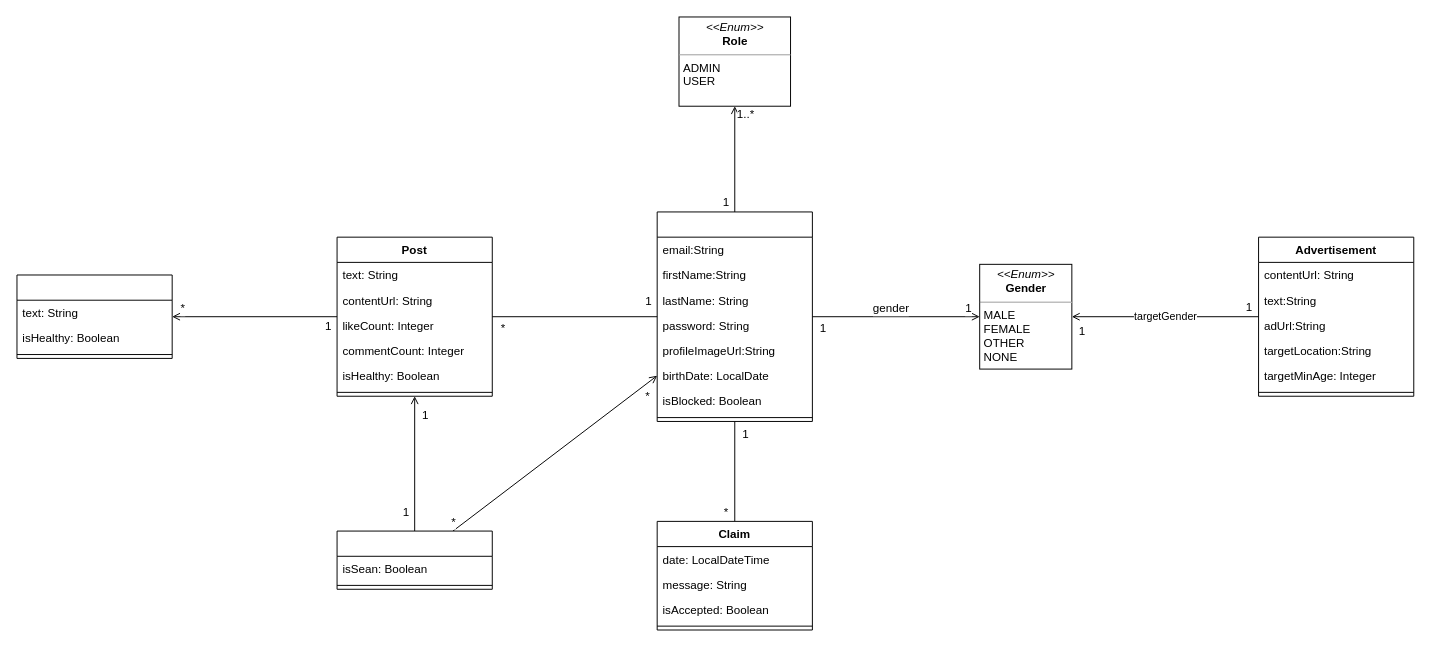
Some shapes in this 1431 by 647 pixel diagram are drawn without their labels. Here are the shapes that lost their labels. From the top down, the box of each, then its label:
(16, 274, 172, 358): Comment
(656, 211, 812, 421): User
(336, 530, 492, 589): Notification
